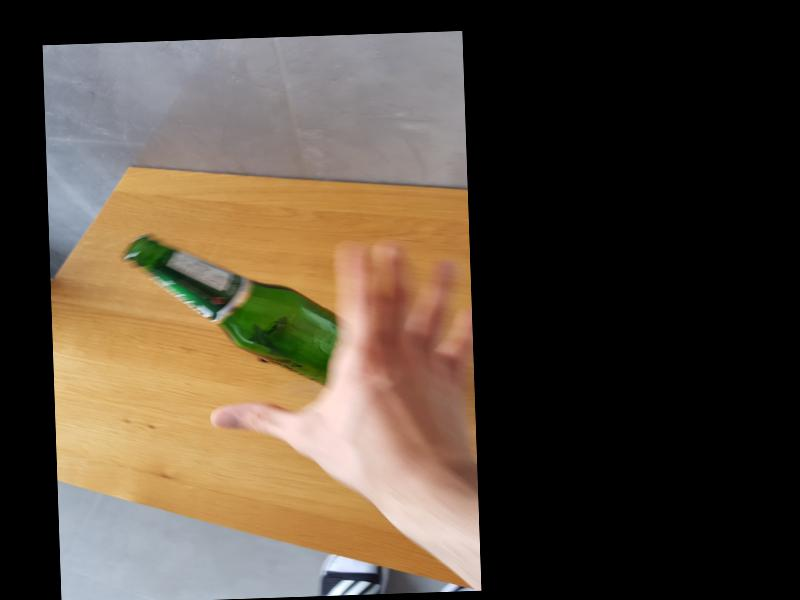Beer: (122, 229, 339, 393)
